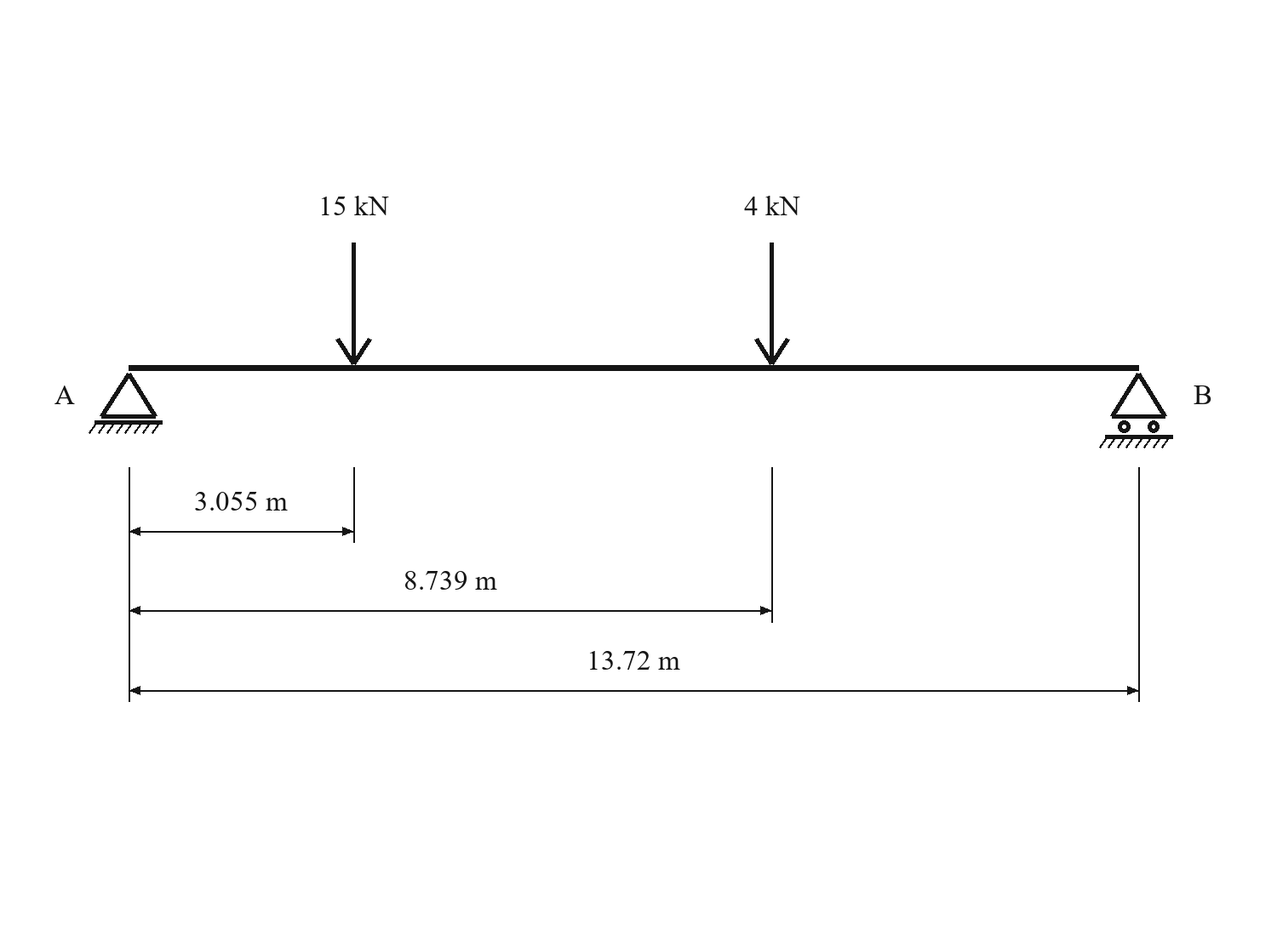pin_support: (89, 373, 163, 434)
point_load: (335, 243, 372, 365), (754, 243, 790, 365)
roller_support: (1099, 373, 1173, 448)
